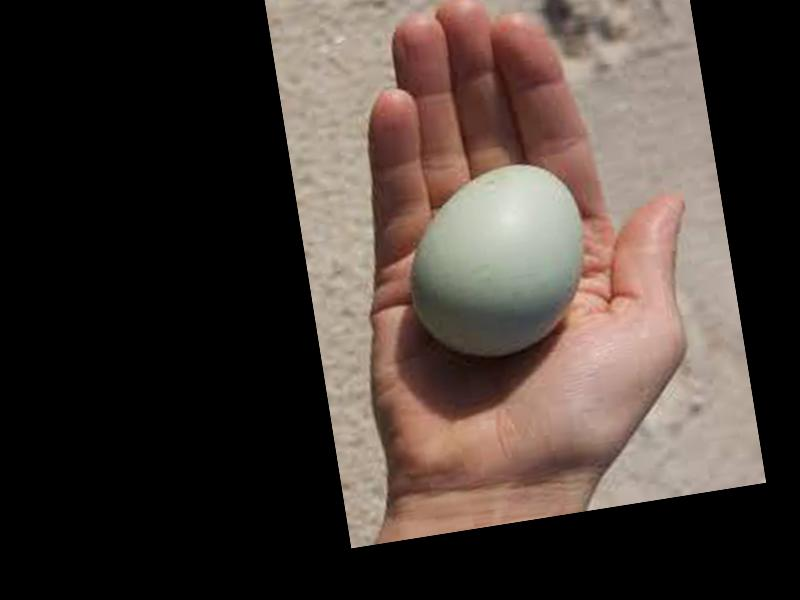Eggs: (395, 154, 597, 363)
